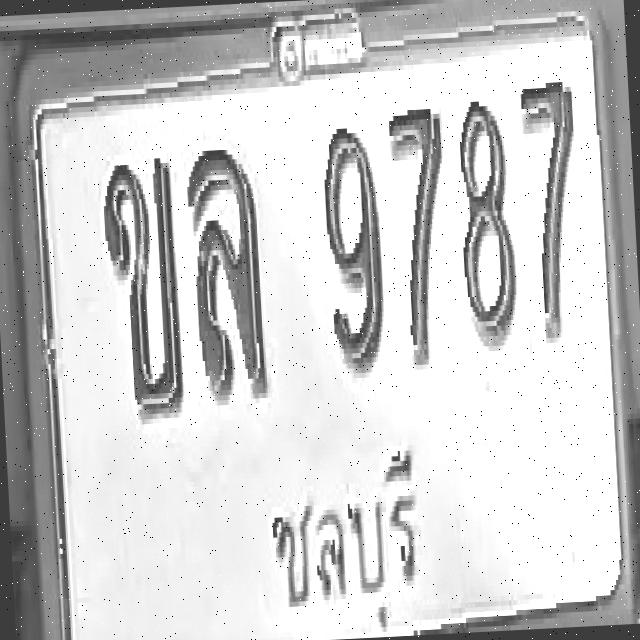11KhorKhai: (100, 155, 186, 418)
45LorLing: (185, 144, 268, 402)
7: (386, 104, 454, 366), (518, 76, 586, 338)
8: (453, 95, 519, 347)
9: (319, 119, 387, 372)
Chonburi: (258, 437, 431, 640)
